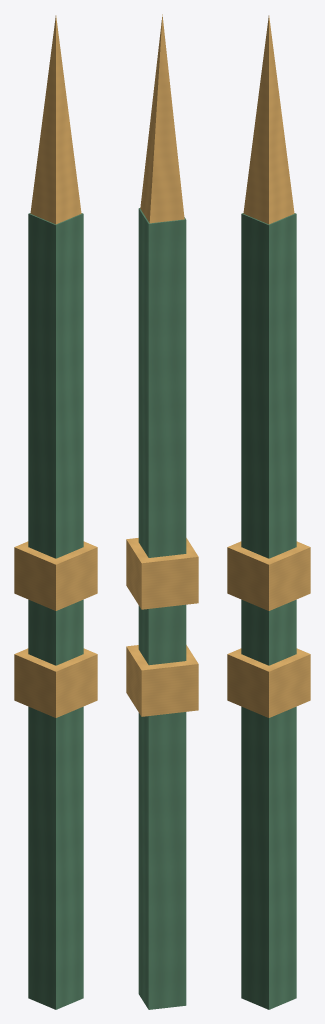
Rendered from atlas100-s001-a05.lod2.glb.
3 views of the same model, side by side, from view 1: azimuth 90°, elevation 25°; view 2: azimuth 150°, elevation 25°; view 3: azimuth 270°, elevation 25° (orthographic).
Parts seen in each view (by area): view 1: atlas100-s001-a05:part-000, atlas100-s001-a05:part-004, atlas100-s001-a05:part-002, atlas100-s001-a05:part-003; view 2: atlas100-s001-a05:part-000, atlas100-s001-a05:part-004, atlas100-s001-a05:part-002, atlas100-s001-a05:part-003; view 3: atlas100-s001-a05:part-000, atlas100-s001-a05:part-004, atlas100-s001-a05:part-002, atlas100-s001-a05:part-003.
Boxes of the visible parts, left/top/right/bottom form: atlas100-s001-a05:part-000: left=28, top=213, right=83, bottom=1009; atlas100-s001-a05:part-004: left=30, top=15, right=81, bottom=224; atlas100-s001-a05:part-002: left=14, top=648, right=97, bottom=717; atlas100-s001-a05:part-003: left=14, top=541, right=97, bottom=610; atlas100-s001-a05:part-000: left=138, top=208, right=186, bottom=1009; atlas100-s001-a05:part-004: left=140, top=14, right=184, bottom=223; atlas100-s001-a05:part-002: left=126, top=645, right=198, bottom=716; atlas100-s001-a05:part-003: left=126, top=538, right=198, bottom=609; atlas100-s001-a05:part-000: left=241, top=213, right=296, bottom=1009; atlas100-s001-a05:part-004: left=243, top=15, right=294, bottom=224; atlas100-s001-a05:part-002: left=227, top=648, right=310, bottom=717; atlas100-s001-a05:part-003: left=227, top=541, right=310, bottom=610.
Size of the model in its own units: 0.1158 by 1.51 by 0.1158.
2 materials, 2 textured.
